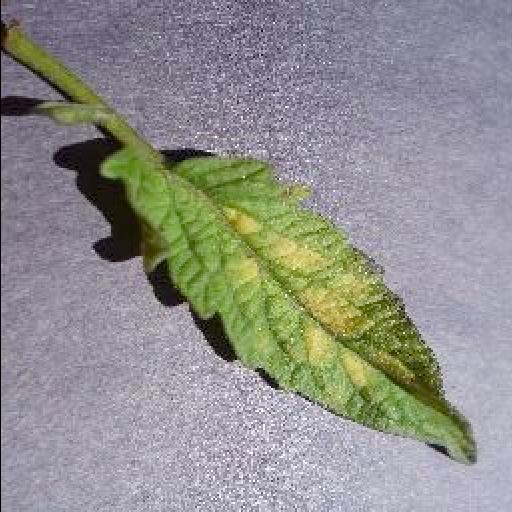disease_tomato: (98, 140, 478, 464)
